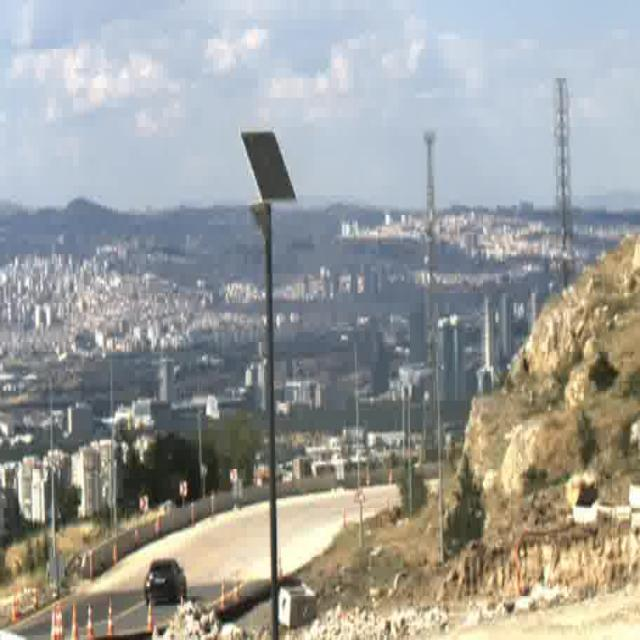Car: (146, 560, 188, 606)
